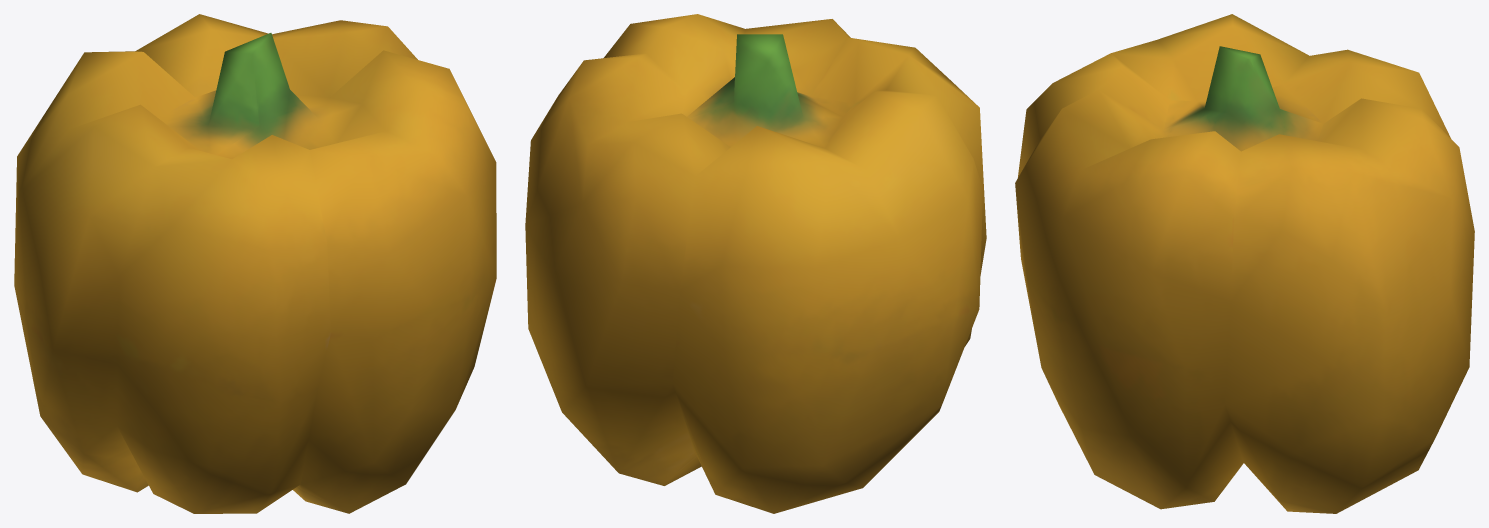
The model's file is SM_Food_SM_Pepper_02.fbx.
3 views of the same model, side by side, from view 1: azimuth 30°, elevation 25°; view 2: azimuth 150°, elevation 25°; view 3: azimuth 270°, elevation 25° (orthographic). The views are drawn at different scales.
Parts seen in each view (by area): view 1: SM_Food_SM_Pepper_02_LOD0; view 2: SM_Food_SM_Pepper_02_LOD0; view 3: SM_Food_SM_Pepper_02_LOD0.
Part boxes in pixels (bbox=[...]): SM_Food_SM_Pepper_02_LOD0: bbox=[14, 14, 496, 513]; SM_Food_SM_Pepper_02_LOD0: bbox=[525, 14, 986, 513]; SM_Food_SM_Pepper_02_LOD0: bbox=[1015, 14, 1474, 513].
Bounding box in the file's own units: 10.86 × 10.83 × 11.02.
1 material, 1 textured.
